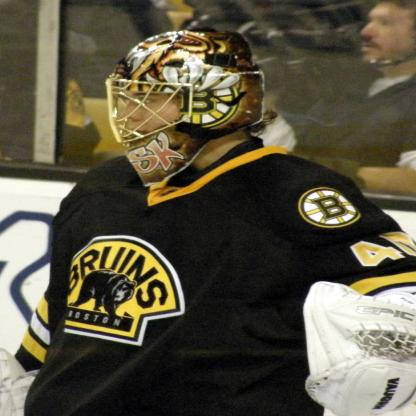Helmet: (100, 26, 274, 187)
